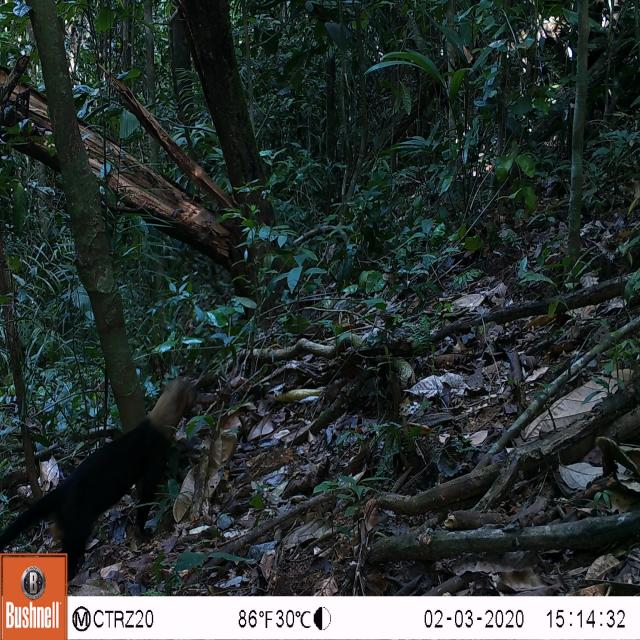Tayra: (15, 367, 202, 557)
